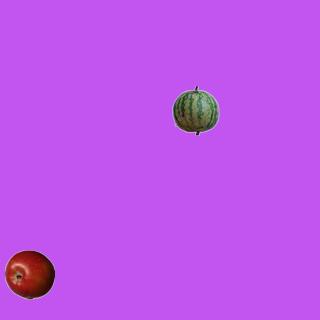Apple Braeburn: (4, 249, 54, 299)
Watermelon: (170, 85, 220, 135)
